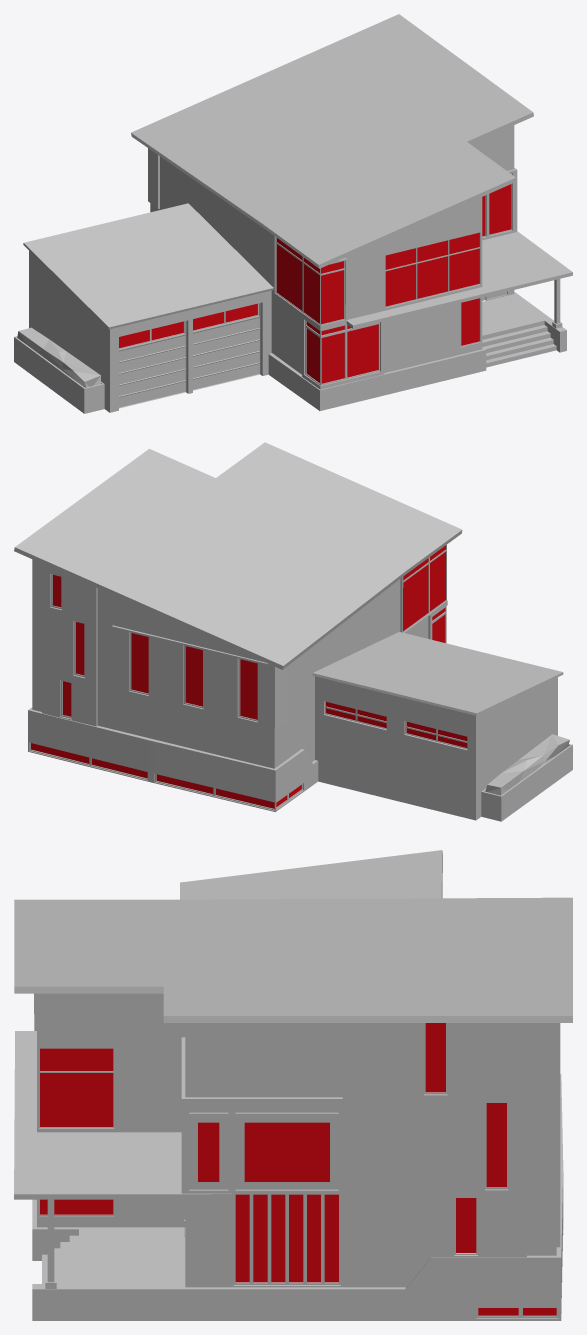
The model's file is SM_cottage_02.gltf.
The picture shows the model from 3 angles, top to bottom: view 1: azimuth 30°, elevation 25°; view 2: azimuth 150°, elevation 25°; view 3: azimuth 270°, elevation 25°; orthographic projection. The views are drawn at different scales.
Visible parts, largest first — view 1: cottage_02; view 2: cottage_02; view 3: cottage_02.
Part boxes in pixels (left/top/right/bottom): cottage_02: left=14, top=14, right=572, bottom=413; cottage_02: left=14, top=442, right=572, bottom=821; cottage_02: left=14, top=850, right=572, bottom=1320.
Size of the model in its own units: 22 by 9.86 by 16.
